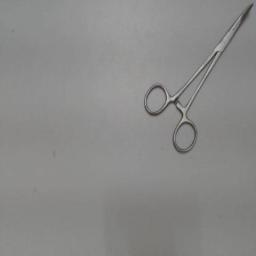Crile Artery Forceps: (140, 0, 256, 156)
